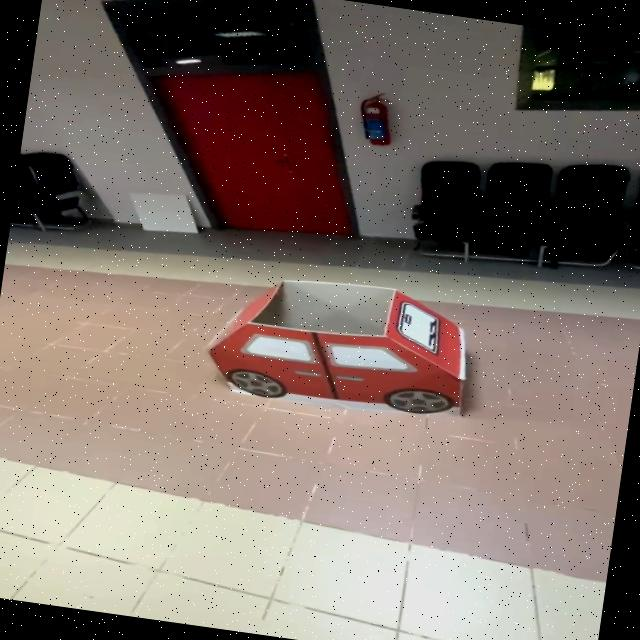red_car: (178, 255, 520, 446)
